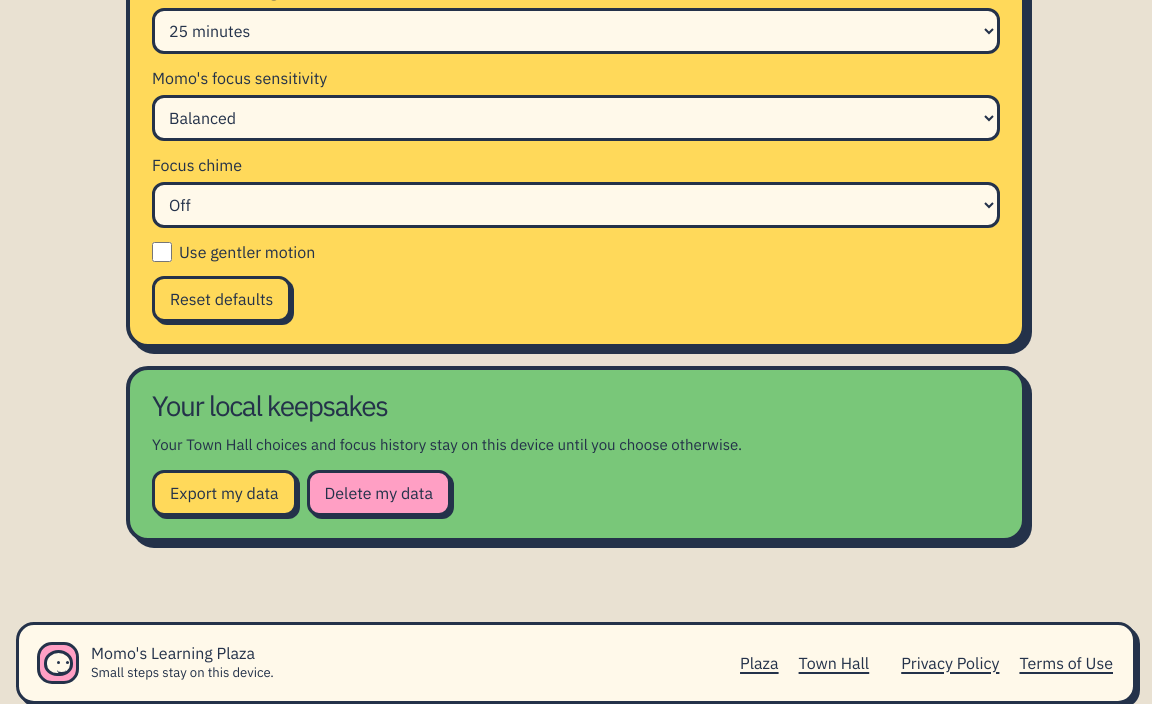
Test: Timer-Only Focus Session › opens the Plaza Town Hall as Momo's Mayor's Desk
(page scrolled)
What coordinates should you click on to do the following:
click the button "Delete my data"
I would click on:
 (379, 493)
Its box is [307,470,451,516].
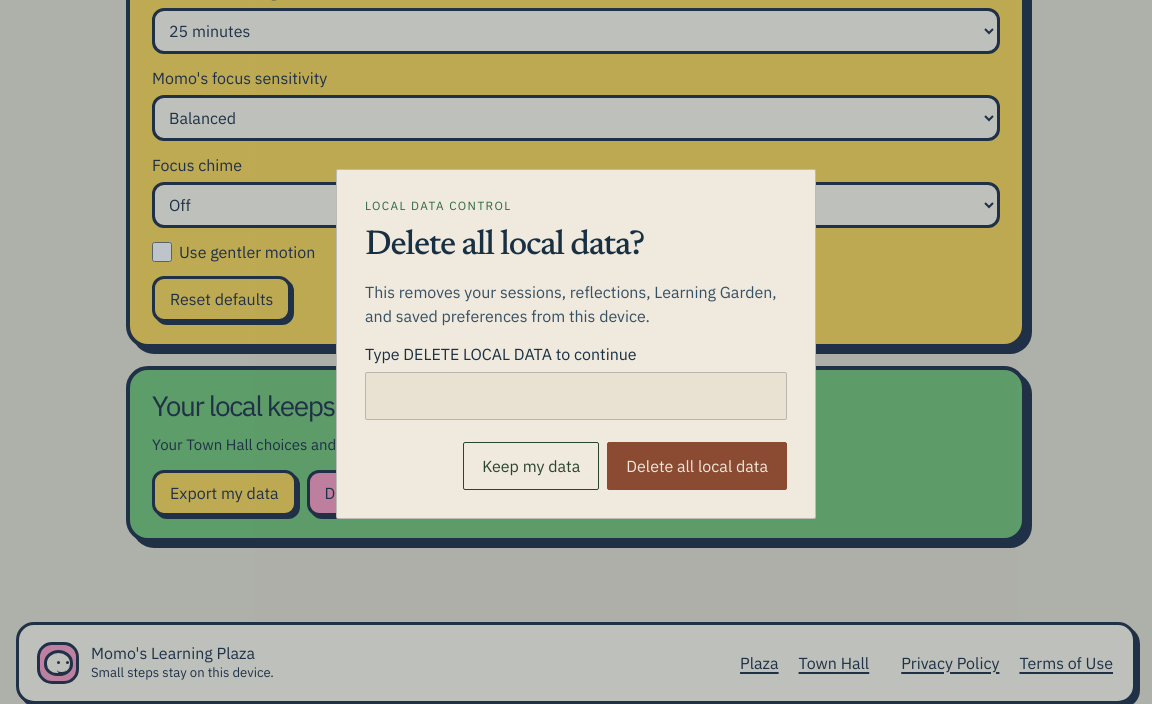
Now the dialog is shown, box [336,169,816,519]
